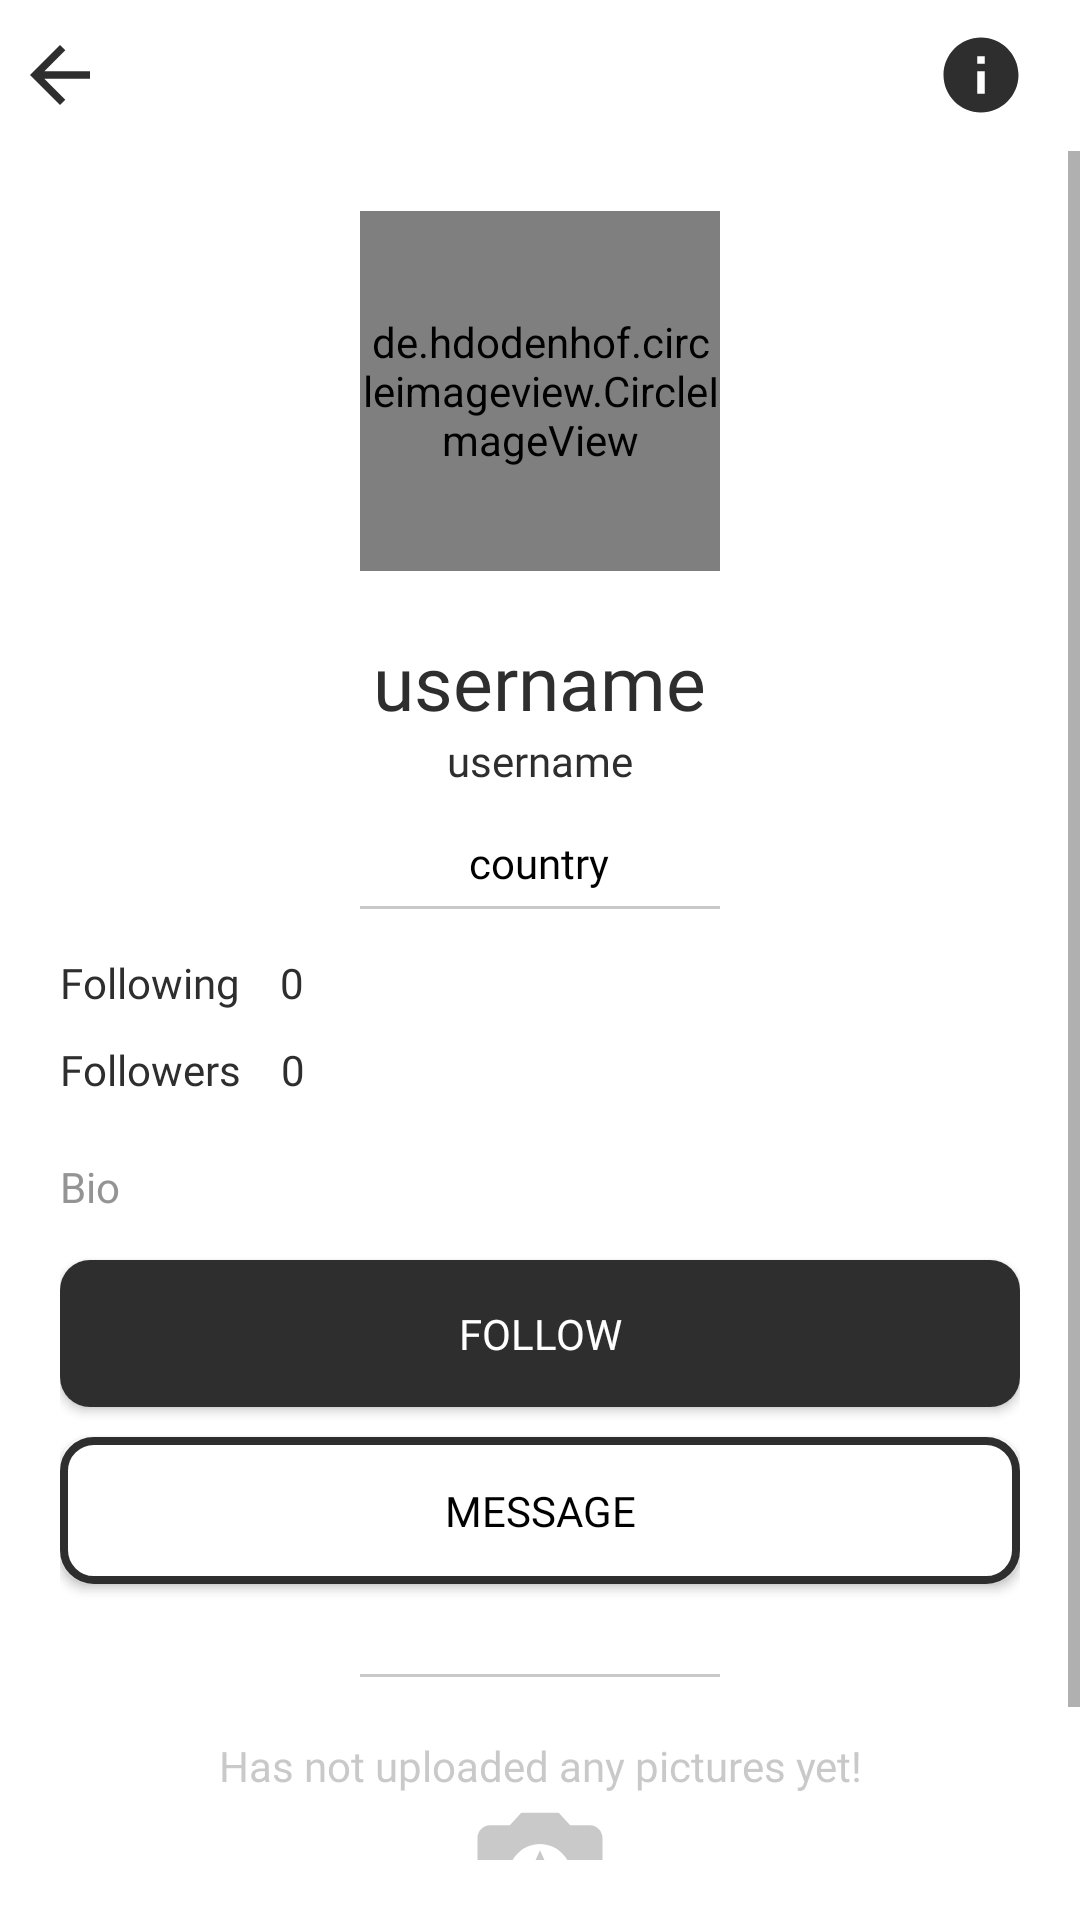

Icon bounding boxes for this 1080 x 1920 phone screenshot, format bbox=[x1, y1, x2, y2]:
arrow back: bbox=[30, 45, 90, 105]
info: bbox=[943, 37, 1019, 113]
